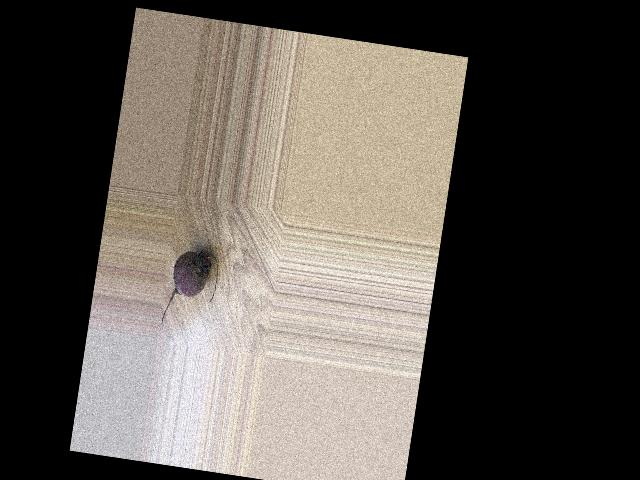beet: (160, 246, 220, 332)
